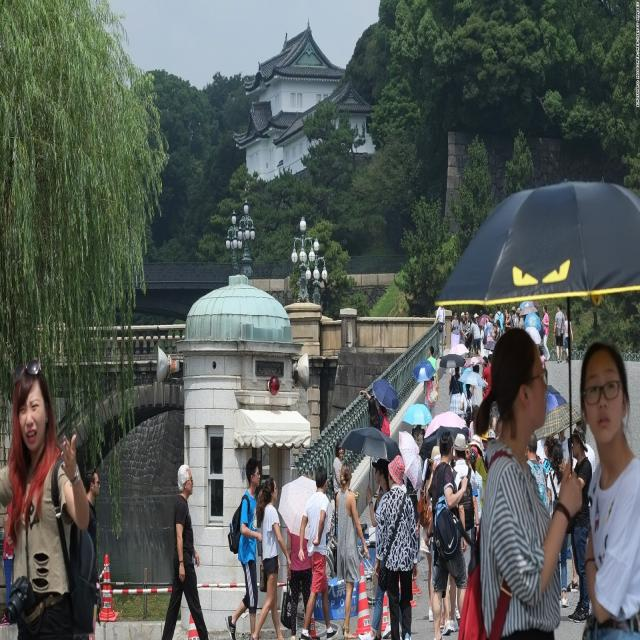body: (454, 325, 587, 639), (0, 359, 92, 639), (578, 336, 640, 639), (156, 462, 210, 640), (425, 429, 469, 640), (374, 453, 418, 639), (373, 453, 416, 640), (370, 452, 409, 640), (332, 458, 372, 639), (224, 458, 262, 640), (249, 474, 290, 639), (300, 465, 338, 640), (566, 426, 594, 624), (566, 425, 592, 596), (452, 432, 481, 580), (545, 442, 570, 608), (280, 527, 312, 640), (83, 466, 102, 640), (422, 445, 441, 611), (465, 397, 506, 459), (526, 432, 550, 514), (361, 389, 381, 474), (469, 447, 484, 541), (469, 364, 489, 415), (422, 375, 438, 434), (332, 438, 346, 504), (426, 444, 442, 500), (448, 364, 464, 420), (552, 303, 566, 364), (522, 303, 543, 341), (464, 314, 482, 358), (460, 382, 476, 430), (557, 428, 574, 467), (426, 345, 440, 392), (542, 433, 558, 474), (434, 305, 446, 359), (540, 304, 551, 362), (448, 349, 468, 380), (481, 352, 493, 402), (484, 311, 494, 367), (564, 312, 574, 364), (368, 397, 382, 432), (471, 313, 481, 358), (410, 424, 426, 451), (464, 310, 473, 350), (458, 312, 468, 346), (494, 304, 504, 336), (491, 318, 502, 344), (450, 309, 460, 336), (513, 307, 524, 329), (538, 345, 547, 370), (480, 318, 485, 361), (504, 307, 511, 334), (480, 355, 488, 369), (510, 304, 516, 318)
